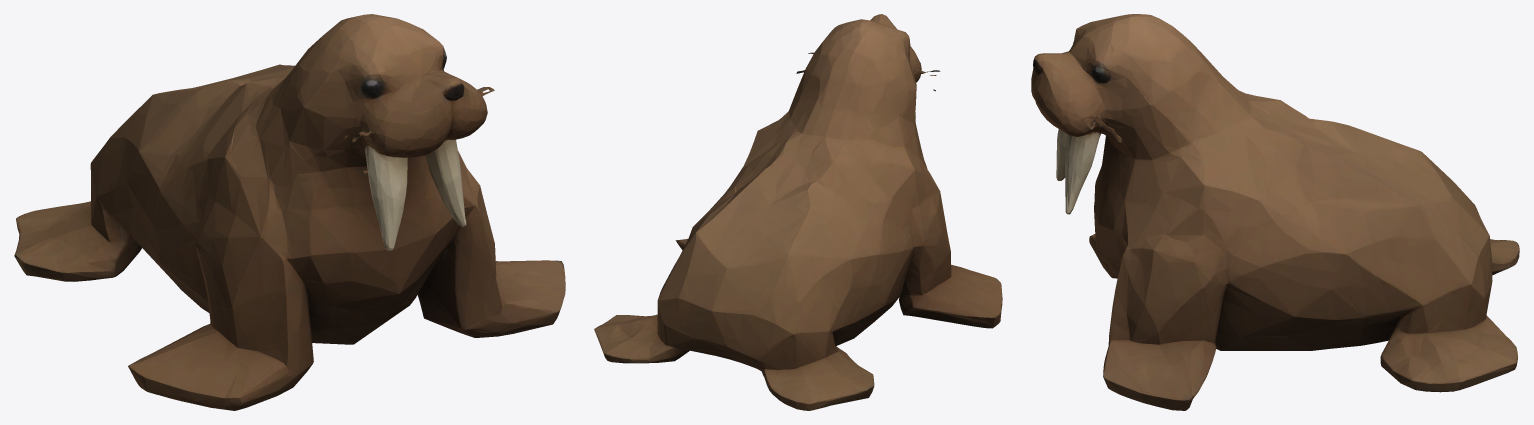
The model's file is walrus.glb.
3 renders of one model, left to right at view 1: azimuth 30°, elevation 25°; view 2: azimuth 150°, elevation 25°; view 3: azimuth 270°, elevation 25°, orthographic. The views are drawn at different scales.
Visible parts, largest first — view 1: world; view 2: world; view 3: world.
Part boxes in pixels (x1,y1,x2,y2): world: (14,14,565,410); world: (594,14,1002,410); world: (1031,14,1519,410).
Bounding box in the file's own units: 0.9129 × 0.7058 × 0.999.
1 material, 1 textured.
